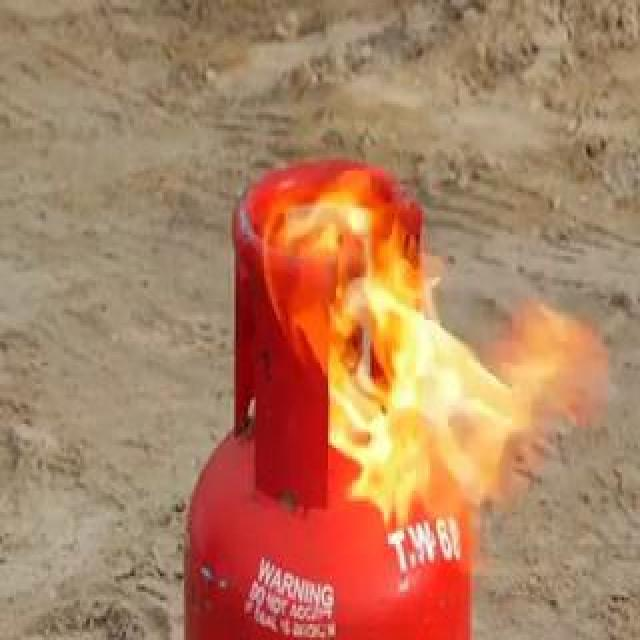Fire: (241, 129, 595, 500)
